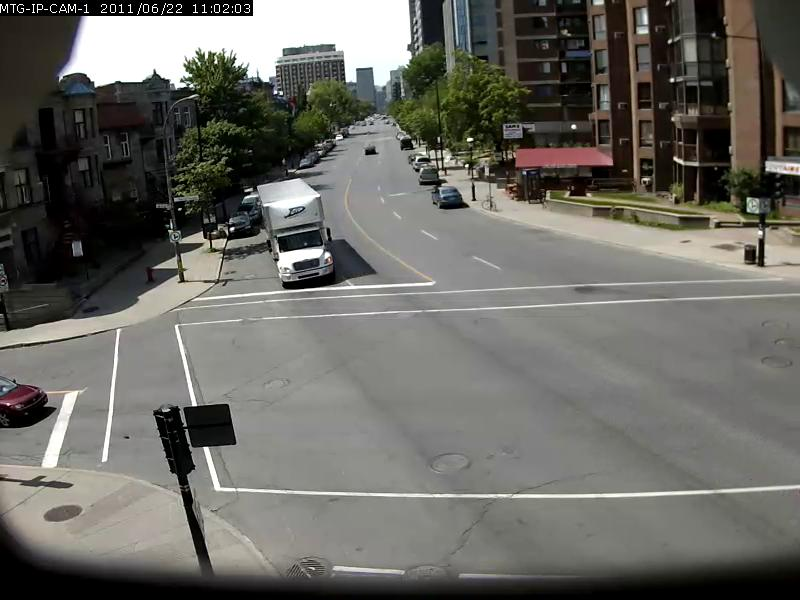Truck: (255, 177, 334, 284)
